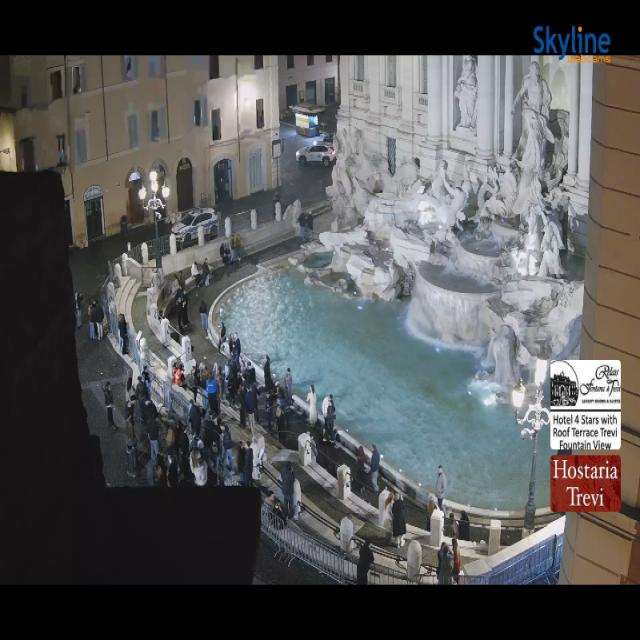person: (206, 362, 236, 415), (307, 430, 339, 476), (125, 390, 155, 434), (307, 430, 337, 474), (126, 370, 150, 422), (172, 360, 204, 399), (219, 358, 243, 405), (307, 429, 331, 472), (202, 411, 222, 459), (308, 420, 329, 462), (202, 364, 219, 415), (164, 436, 180, 487), (190, 440, 207, 487), (265, 492, 286, 530), (281, 461, 295, 518), (275, 388, 289, 444), (178, 420, 194, 469), (392, 492, 406, 548), (165, 425, 181, 474), (220, 350, 247, 379), (357, 542, 374, 584), (220, 352, 243, 383), (260, 376, 283, 407), (147, 452, 167, 487), (252, 437, 266, 487), (179, 429, 192, 482), (438, 543, 454, 584), (252, 436, 265, 485), (317, 418, 338, 448), (103, 382, 116, 430), (165, 446, 180, 487), (100, 292, 116, 330), (245, 385, 257, 435), (248, 383, 263, 423), (147, 411, 159, 461), (243, 369, 265, 396), (146, 455, 165, 485), (206, 372, 219, 415), (135, 376, 147, 422), (243, 372, 264, 398), (277, 406, 291, 445), (148, 457, 166, 487), (126, 375, 137, 422), (264, 388, 276, 431), (382, 492, 394, 535), (103, 293, 116, 332), (441, 545, 454, 584), (356, 446, 367, 492), (175, 290, 187, 332), (214, 364, 224, 414), (436, 465, 447, 510), (184, 369, 199, 402), (201, 412, 214, 450), (166, 450, 179, 488), (212, 417, 223, 461), (325, 395, 335, 443), (369, 444, 379, 492), (244, 440, 254, 487), (223, 425, 233, 472), (166, 422, 180, 455), (319, 397, 329, 443), (271, 377, 283, 415), (188, 400, 201, 435), (172, 360, 187, 390), (134, 370, 150, 398), (250, 436, 259, 485), (126, 397, 136, 441), (238, 380, 247, 428), (307, 385, 317, 428), (201, 363, 217, 389), (154, 455, 167, 487), (228, 359, 237, 405), (452, 538, 461, 584), (127, 376, 136, 422), (436, 542, 446, 583), (223, 356, 239, 381), (237, 440, 246, 484), (263, 355, 273, 393), (240, 360, 255, 384), (307, 430, 318, 462), (330, 395, 337, 445), (173, 290, 183, 325), (232, 233, 244, 262), (176, 290, 184, 332), (459, 511, 470, 541), (166, 423, 178, 450), (214, 417, 223, 452), (119, 315, 127, 354), (145, 395, 158, 419), (224, 358, 231, 402), (189, 431, 204, 451), (197, 408, 207, 438), (242, 360, 255, 383), (448, 511, 459, 538), (88, 302, 96, 339), (75, 291, 83, 328), (264, 490, 278, 511), (95, 303, 103, 339), (142, 365, 151, 397), (126, 370, 135, 402), (199, 363, 210, 389), (178, 363, 188, 391), (428, 496, 436, 531), (198, 360, 208, 388), (182, 293, 190, 327), (179, 291, 187, 325), (172, 363, 184, 385), (275, 384, 286, 408), (284, 402, 293, 431), (126, 370, 135, 399), (234, 233, 243, 262), (170, 283, 180, 309), (191, 261, 201, 287), (290, 498, 301, 521), (298, 212, 306, 243), (285, 369, 292, 404), (218, 322, 226, 352), (92, 299, 98, 339), (200, 300, 207, 334), (192, 366, 202, 389), (174, 272, 183, 297), (234, 333, 240, 370), (444, 510, 452, 537), (234, 234, 242, 261), (88, 303, 94, 338), (236, 375, 243, 404), (272, 192, 279, 221), (302, 213, 309, 242), (175, 286, 184, 308), (235, 233, 242, 261), (181, 270, 188, 298), (198, 264, 206, 288), (203, 258, 210, 285), (192, 262, 200, 285), (228, 332, 235, 358), (270, 374, 279, 394), (247, 362, 255, 384), (144, 366, 150, 395), (306, 213, 312, 241), (428, 496, 436, 517), (172, 360, 179, 384), (229, 236, 235, 263), (230, 237, 236, 263), (220, 243, 227, 264), (219, 243, 226, 263), (108, 295, 115, 315), (234, 332, 239, 358), (178, 271, 184, 291), (328, 395, 336, 410), (240, 360, 246, 379), (225, 248, 231, 263), (256, 402, 259, 423)
